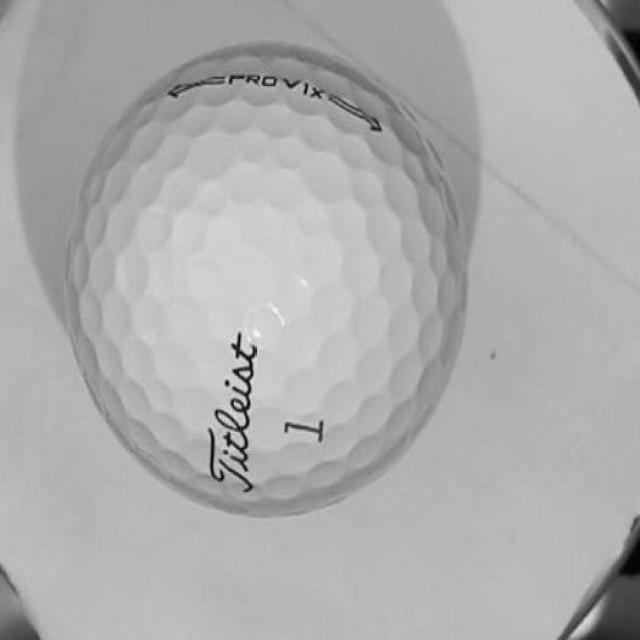golfball: (64, 46, 470, 519), (280, 71, 326, 104)
